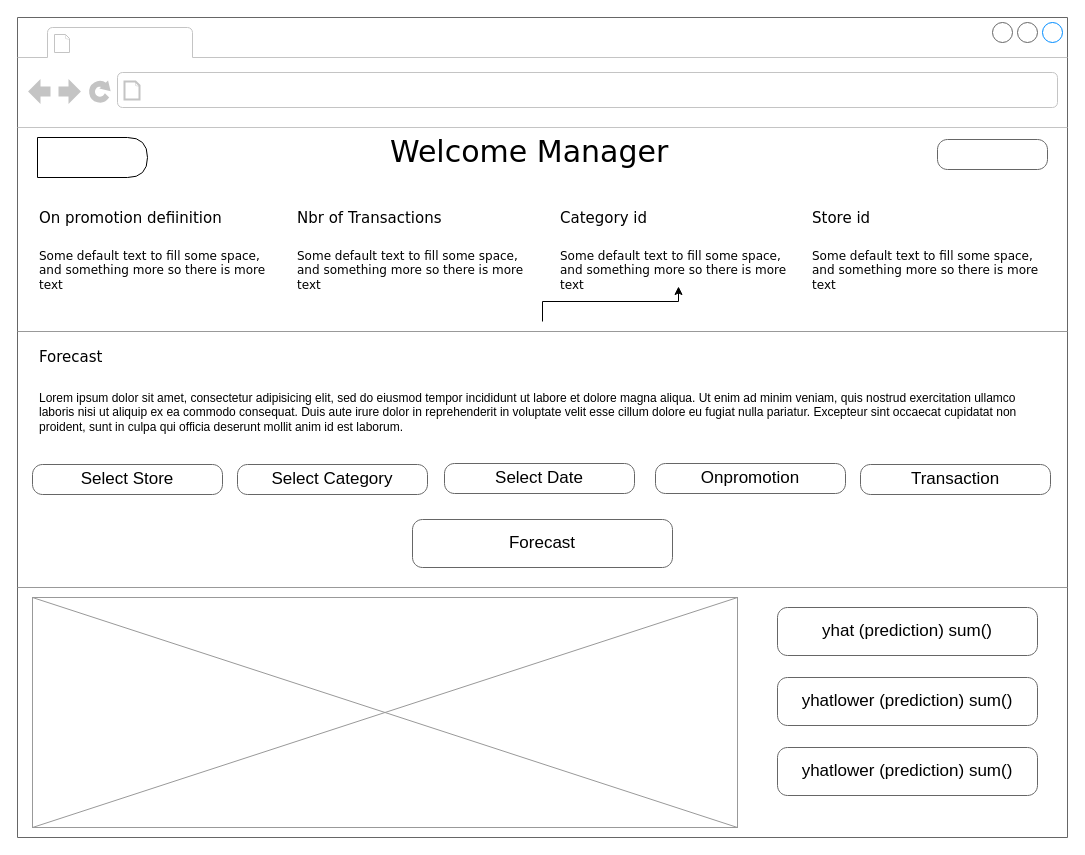
The diagram is 1085 pixels wide and 855 high, and some of its shapes have lost their labels. The shapes that lost their labels are listed below. From the top down, each one's centre as x and y in pixels, then its label:
At pixel 132 42: "Page 1".
At pixel 272 90: "iridiumstore.com/forecast".
At pixel 992 154: "Logout".
